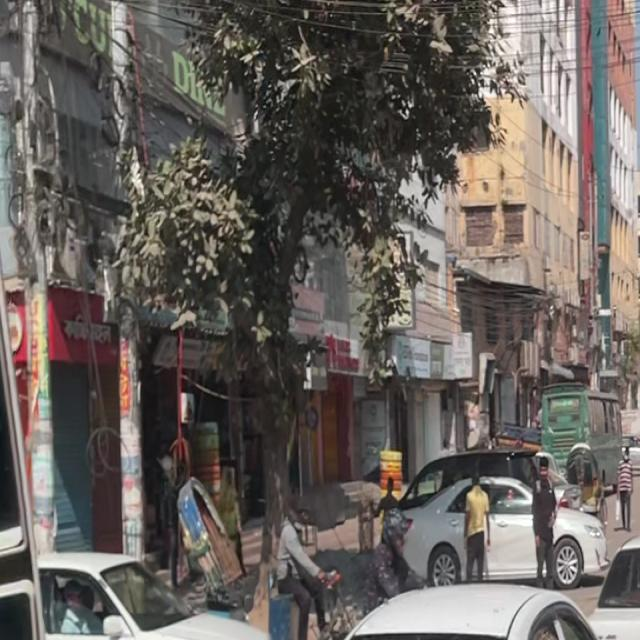car: (391, 448, 594, 611), (224, 562, 640, 639), (21, 574, 296, 640), (585, 519, 640, 640), (594, 616, 640, 640)
